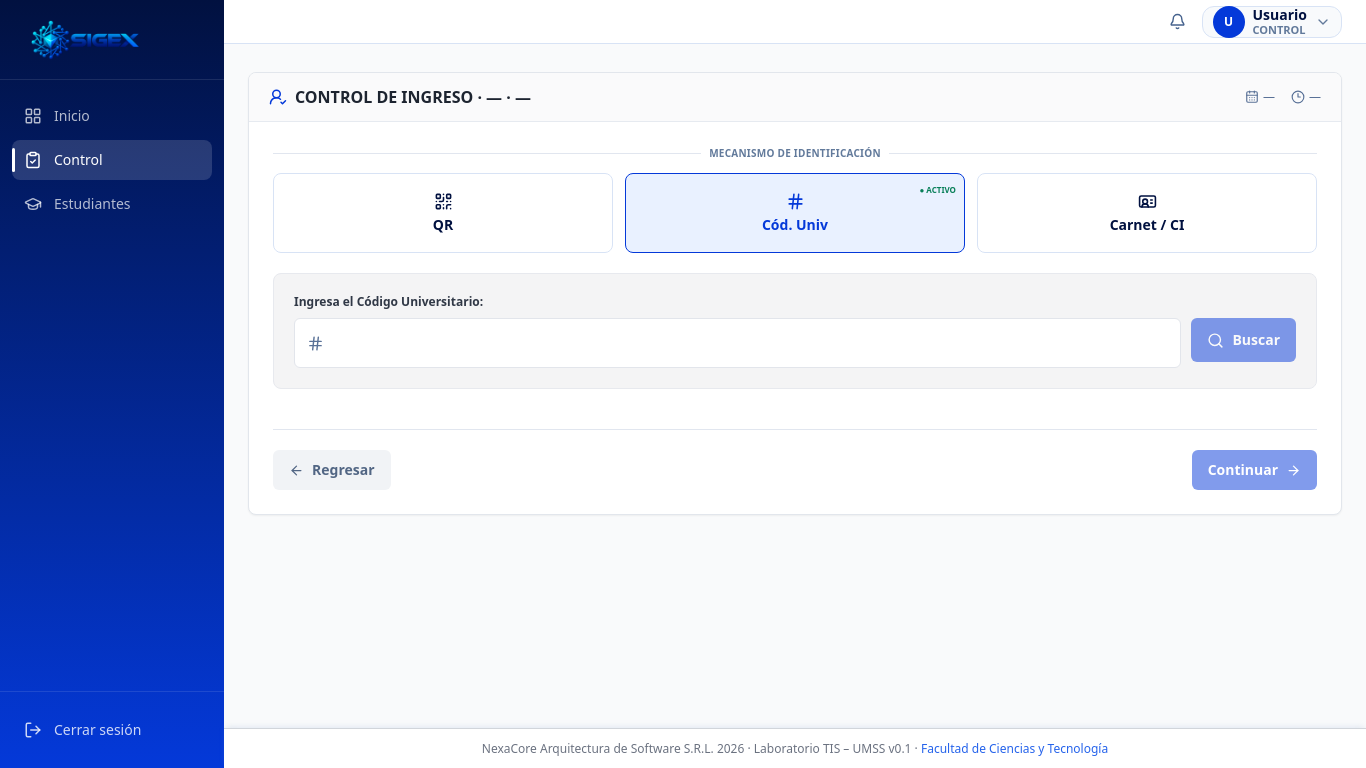
Identificación por QR › muestra un mensaje claro si no hay cámara
This screenshot has width=1366, height=768.
Step 1. Click the button "QR" → (443, 213), box [273,173,613,253]
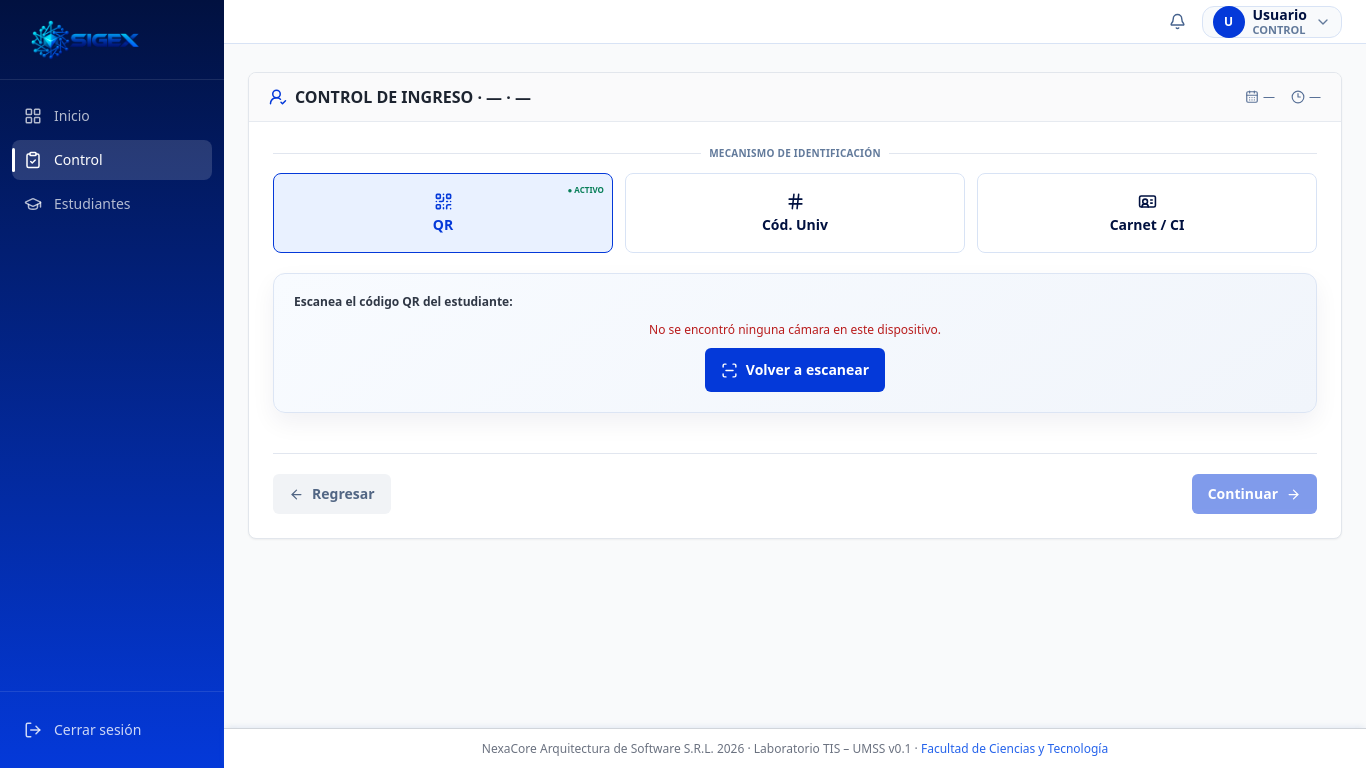
Expected: the message reads "No se encontró ninguna cámara en este dispositivo.", [649,321,941,338]
Expected: the button "Volver a escanear" is shown, [705,348,885,392]
